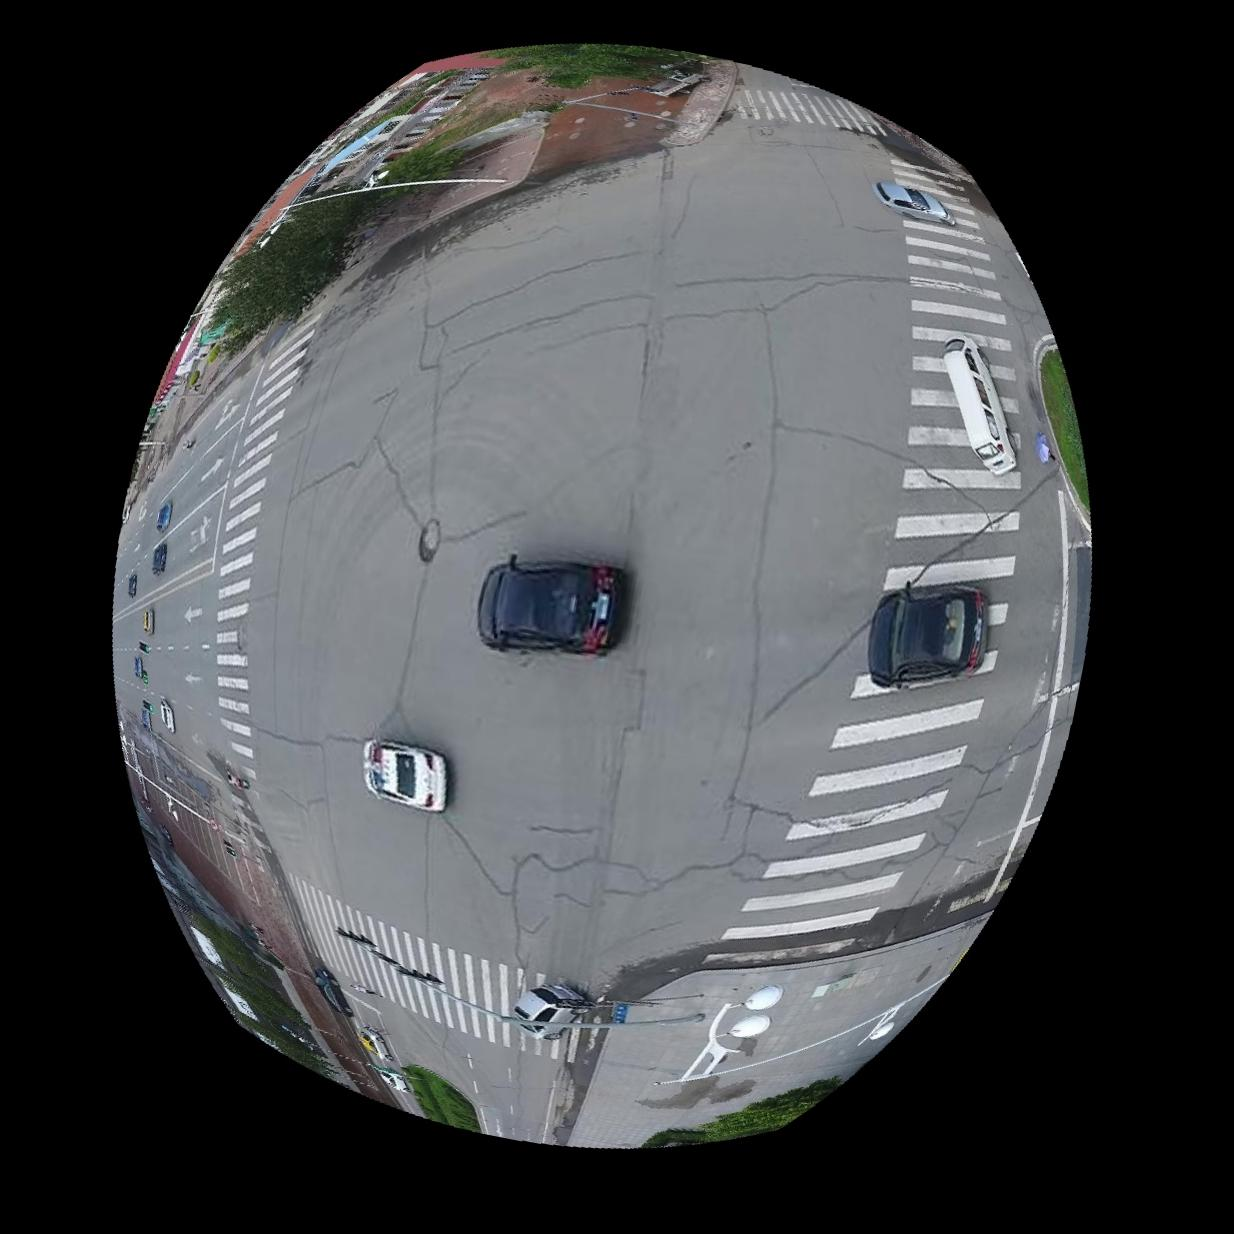cars: (477, 554, 624, 656), (869, 584, 990, 689), (945, 334, 1018, 474), (362, 741, 447, 814), (511, 984, 588, 1042), (875, 179, 955, 222), (629, 67, 709, 95), (157, 697, 174, 733), (154, 501, 172, 531), (150, 542, 166, 575), (141, 607, 153, 635)
trees: (174, 891, 334, 1079), (207, 190, 385, 353), (643, 1079, 841, 1148), (492, 41, 700, 86), (1042, 346, 1092, 510), (374, 140, 468, 181)
